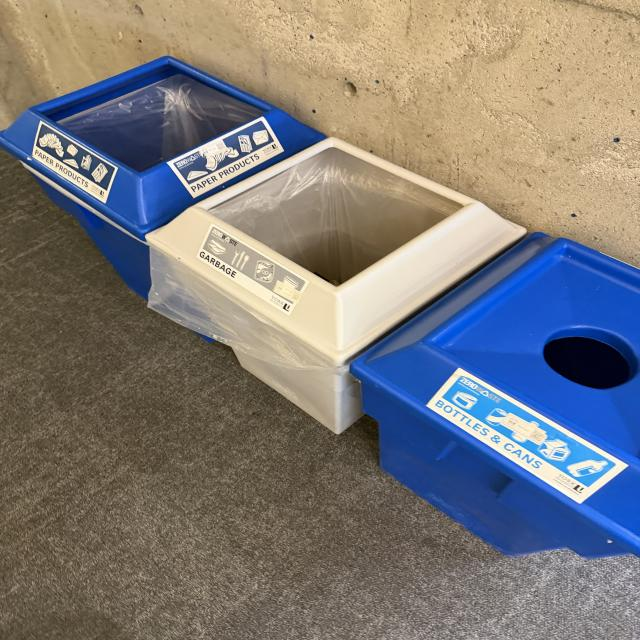Dustbin: (5, 54, 640, 553)
